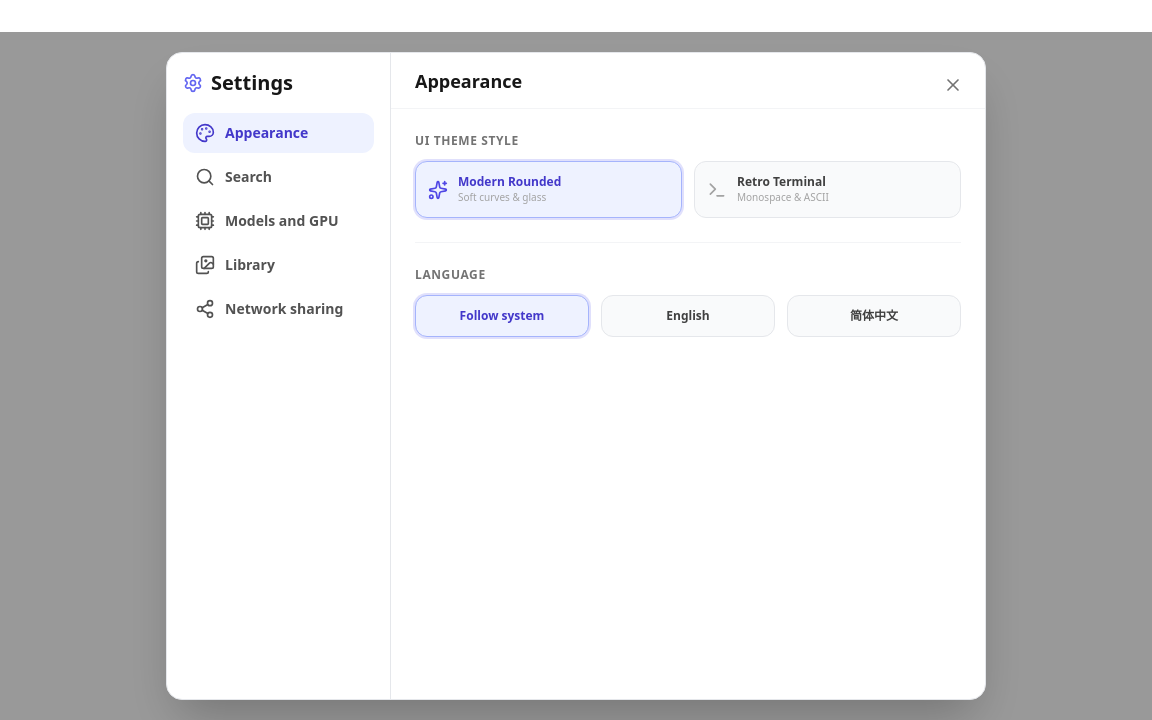
Test case: SettingsModal › groups › puts the Sharing group of the desktop app after the Library, with its sections inside
This screenshot has width=1152, height=720.
Click the tab "Network sharing": (278, 309) [183,289,374,329]
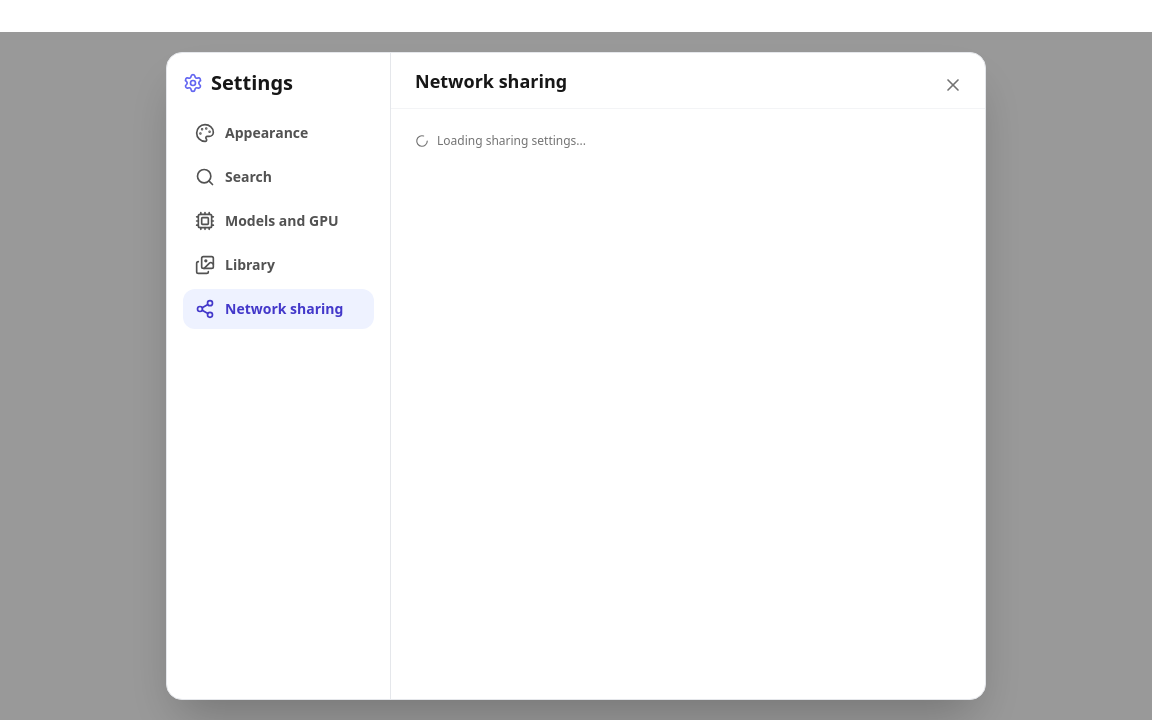
Expected: the number of headings "Network sharing" is 1, [415,66,567,94]
Expected: the text "Loading sharing settings..." is shown, [415,132,586,149]
